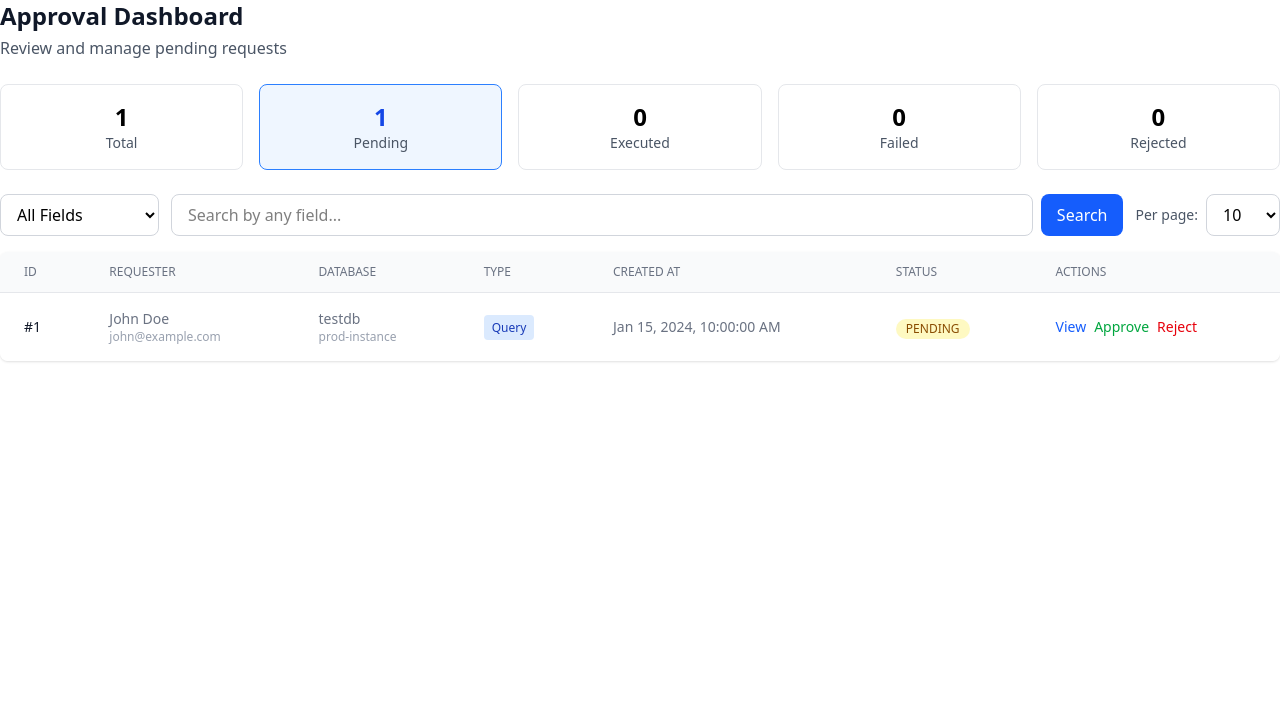
it: ApprovalDashboard › should open reject modal
Click the button "Reject": (1177, 327) top-left (1157, 317), bottom-right (1197, 337)
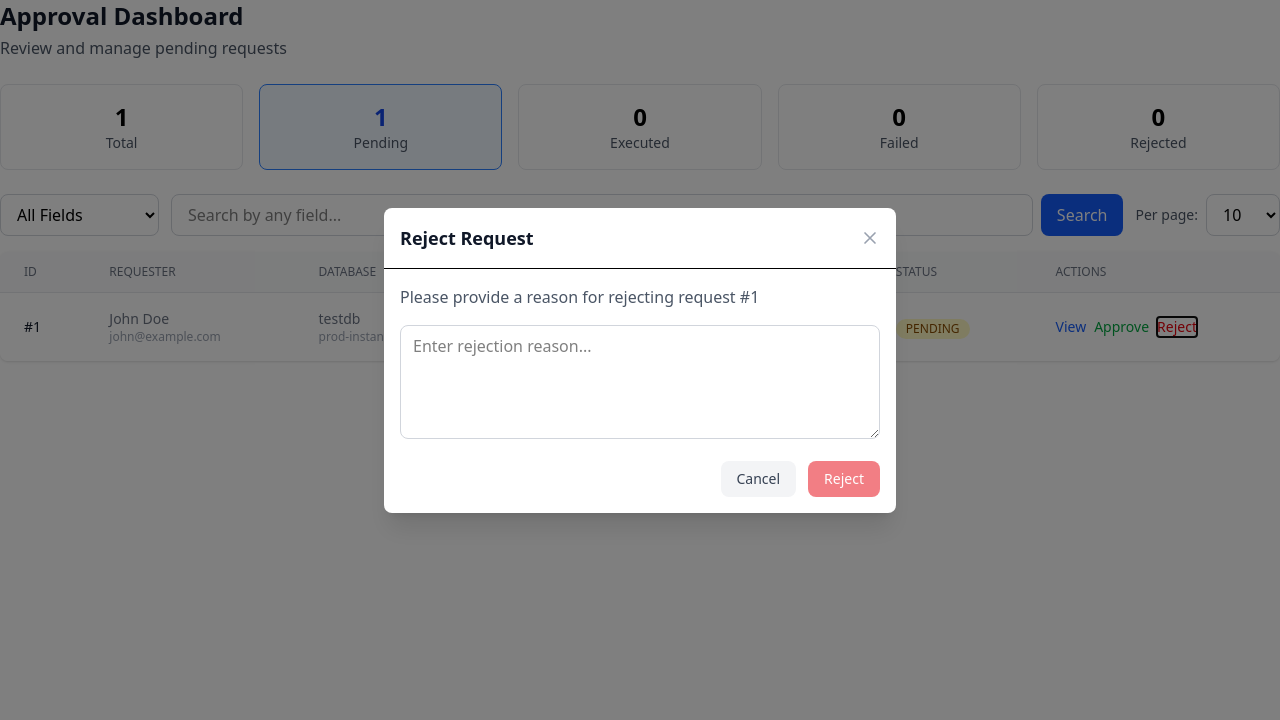
Expected: the text "Please provide a reason for rejecting request #1" is shown, top-left (400, 286), bottom-right (759, 308)
